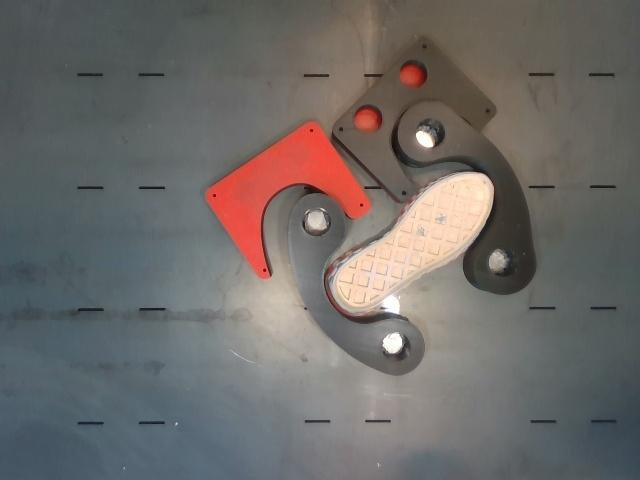shoes: (335, 174, 493, 310)
